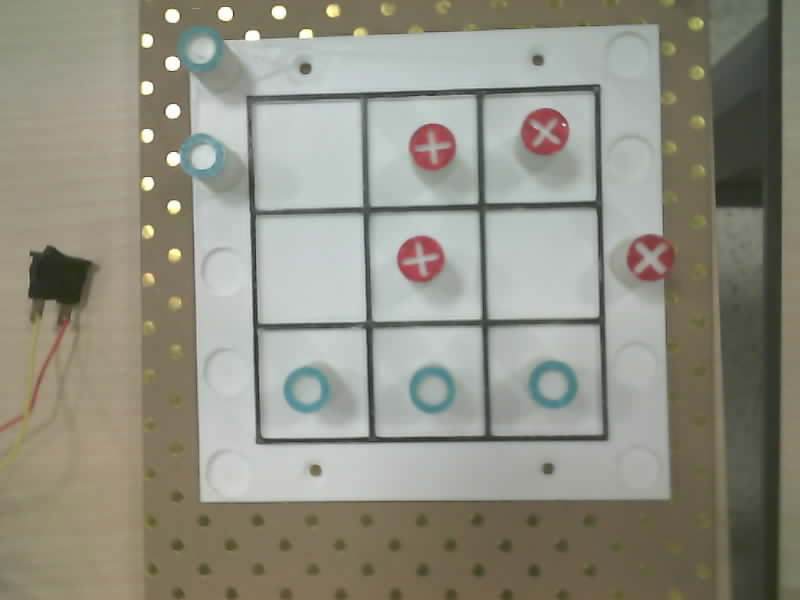blue circle: (528, 360, 577, 408), (283, 366, 329, 413), (409, 366, 455, 413), (177, 27, 224, 72), (179, 133, 224, 178)
board: (177, 26, 673, 500)
cells: (485, 207, 600, 318), (488, 325, 603, 436), (484, 91, 596, 203), (250, 99, 361, 210), (373, 326, 484, 437), (369, 211, 480, 321), (259, 328, 368, 439), (368, 95, 477, 206), (255, 215, 364, 323)
grid: (248, 85, 607, 443)
red cross: (627, 234, 674, 281), (521, 108, 569, 154), (397, 236, 444, 281), (409, 124, 455, 169)
